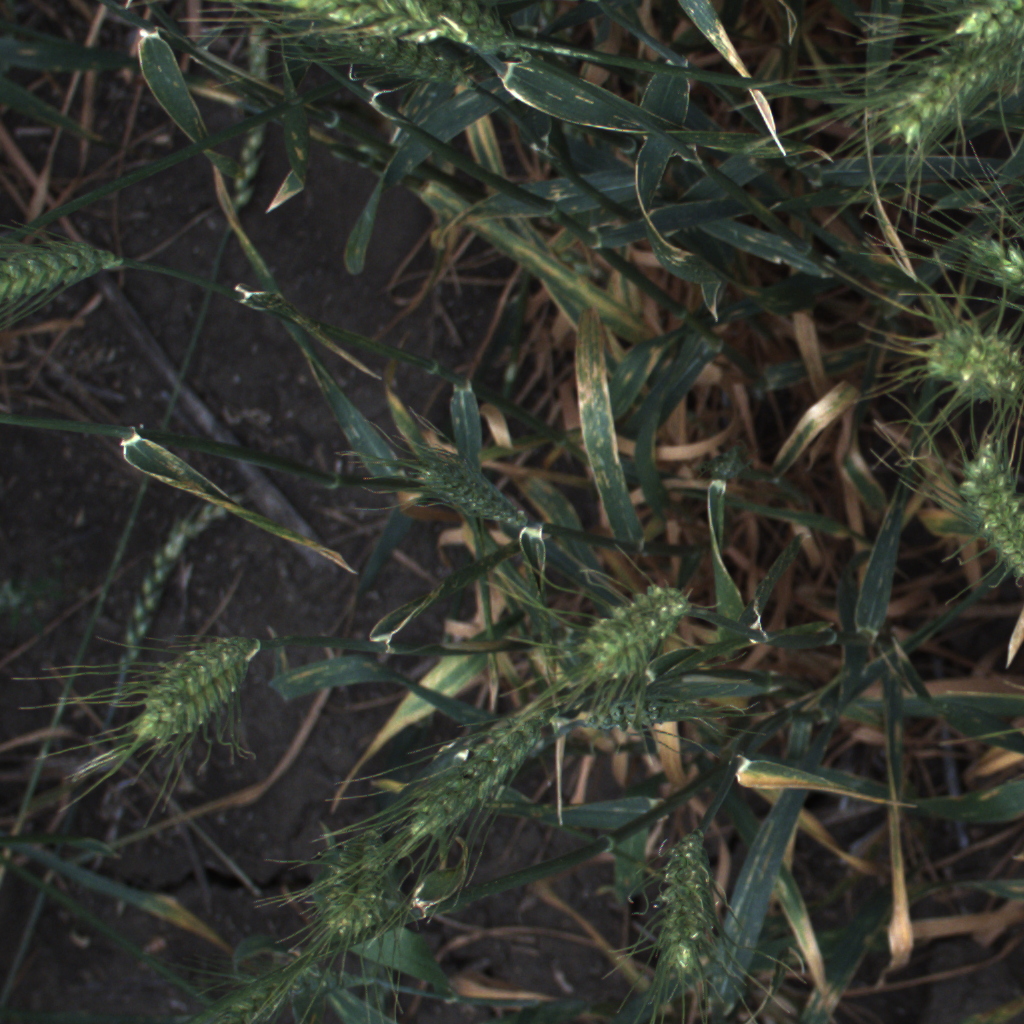wheat_head: (112, 615, 268, 763), (400, 705, 551, 851), (863, 18, 1024, 152), (384, 431, 544, 544), (273, 0, 515, 65), (643, 818, 730, 993), (0, 212, 133, 322), (937, 430, 1024, 589), (571, 582, 689, 675), (320, 828, 402, 949), (913, 317, 1024, 394), (212, 959, 336, 1024), (573, 694, 693, 744), (929, 0, 1024, 59), (956, 223, 1024, 299)
